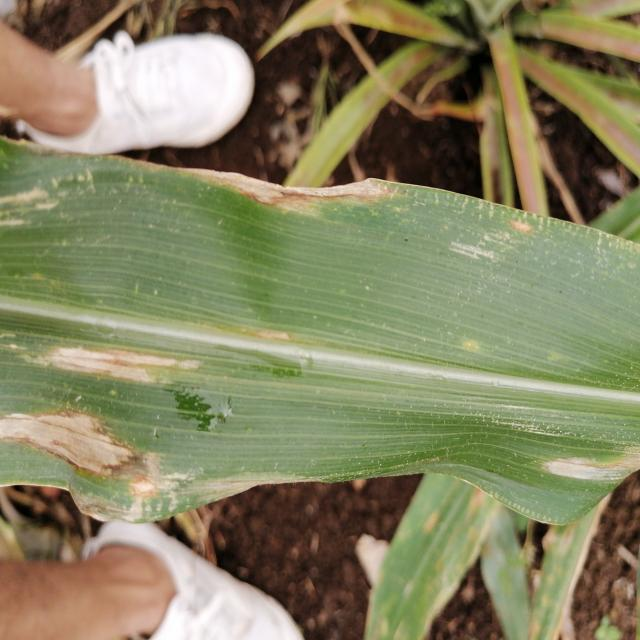Corn_Leaf_Blight: (0, 140, 640, 540)
